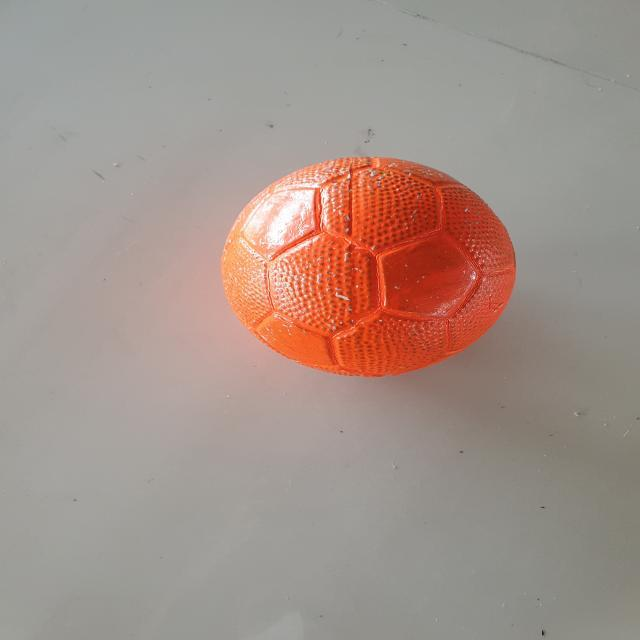bola: (199, 147, 531, 381)
